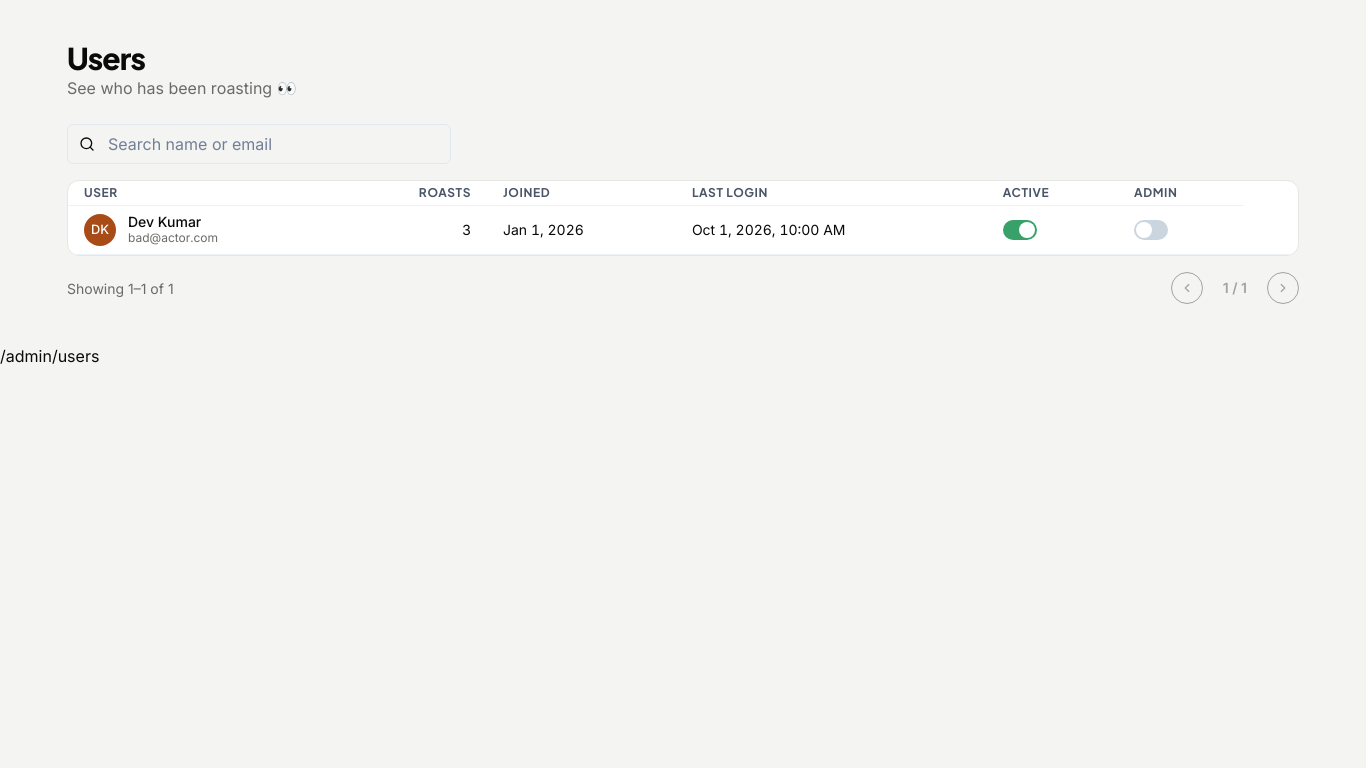
AdminUsersPage › deactivating a user updates the row after confirmation
Click the checkbox named "Deactivate bad@actor.com" at (1020, 230), box [1003, 220, 1037, 240]
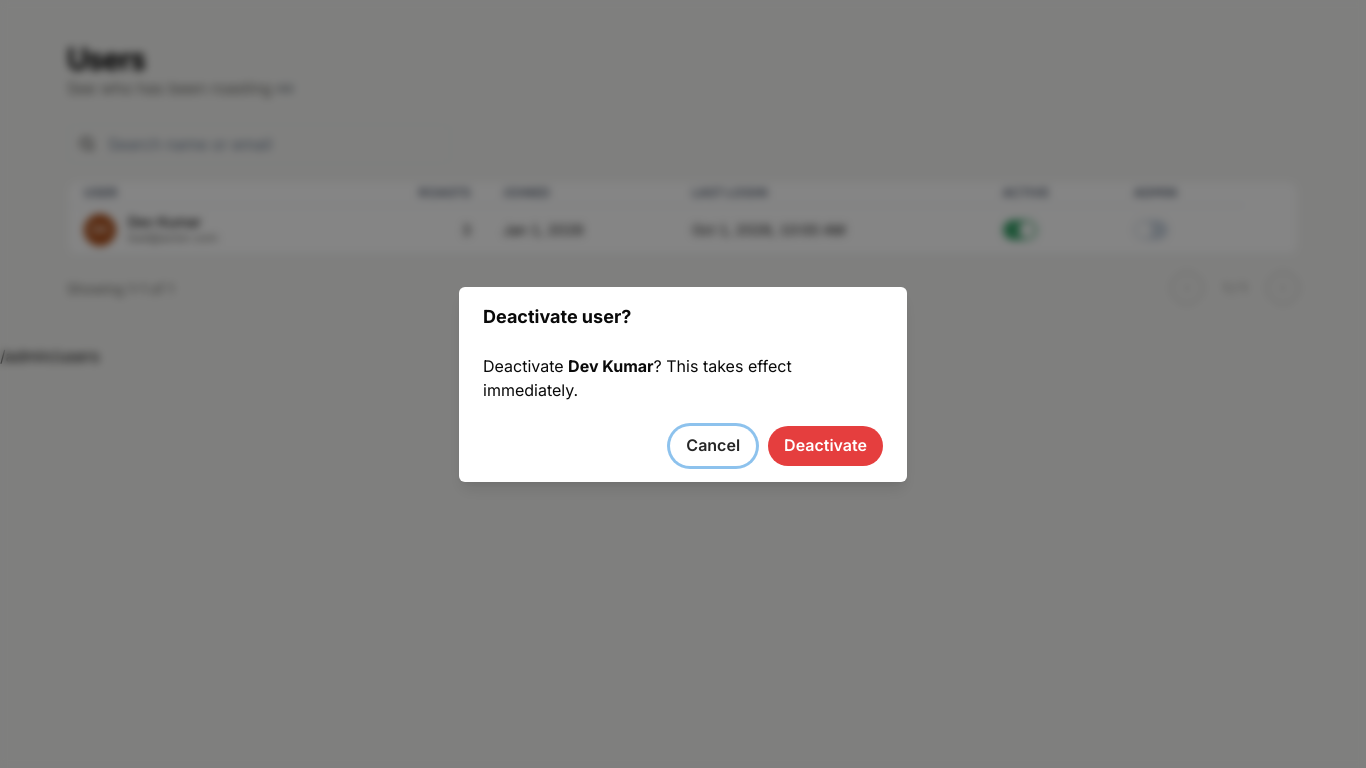
Click the button "Deactivate" at (826, 446), box [768, 426, 883, 466]
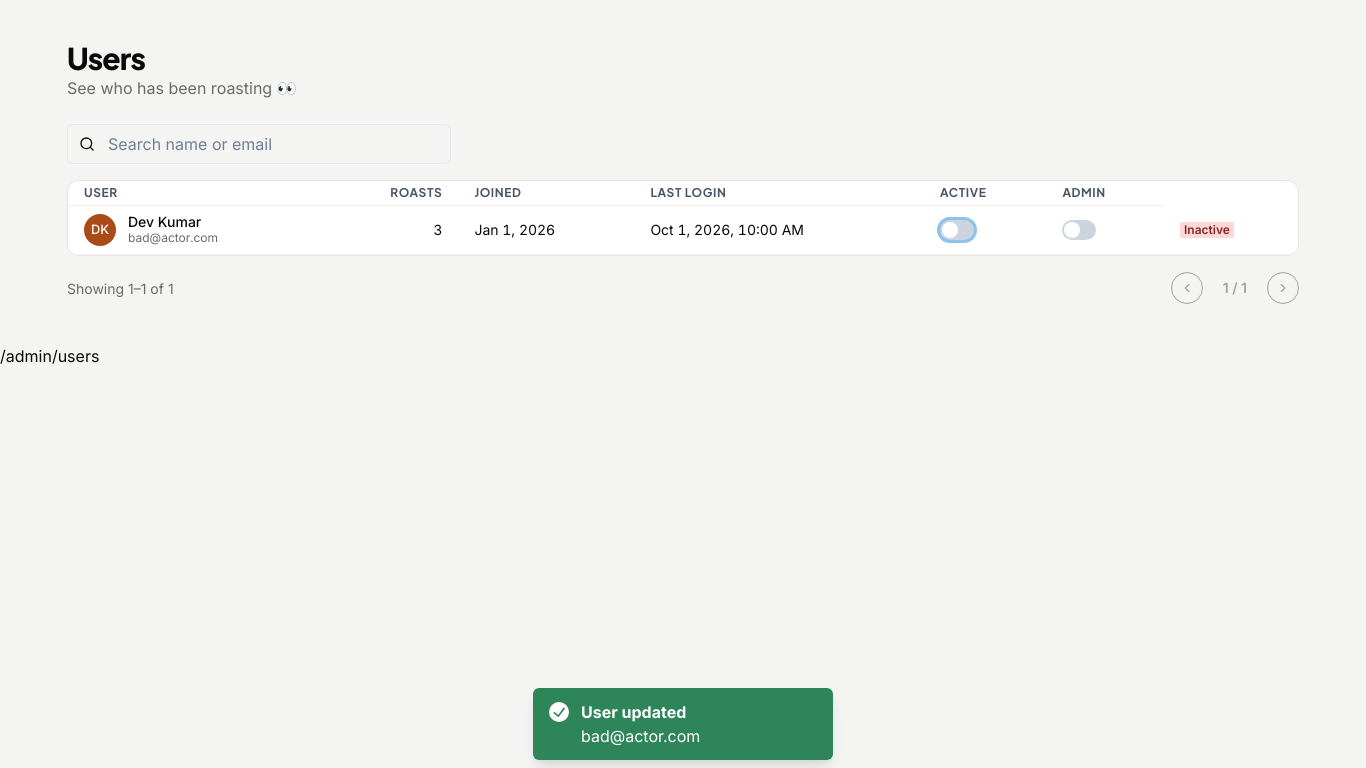
Result: the checkbox named "Activate bad@actor.com" is not checked at [940, 220, 974, 240]
Result: the text "User updated" is shown at [581, 702, 686, 722]
